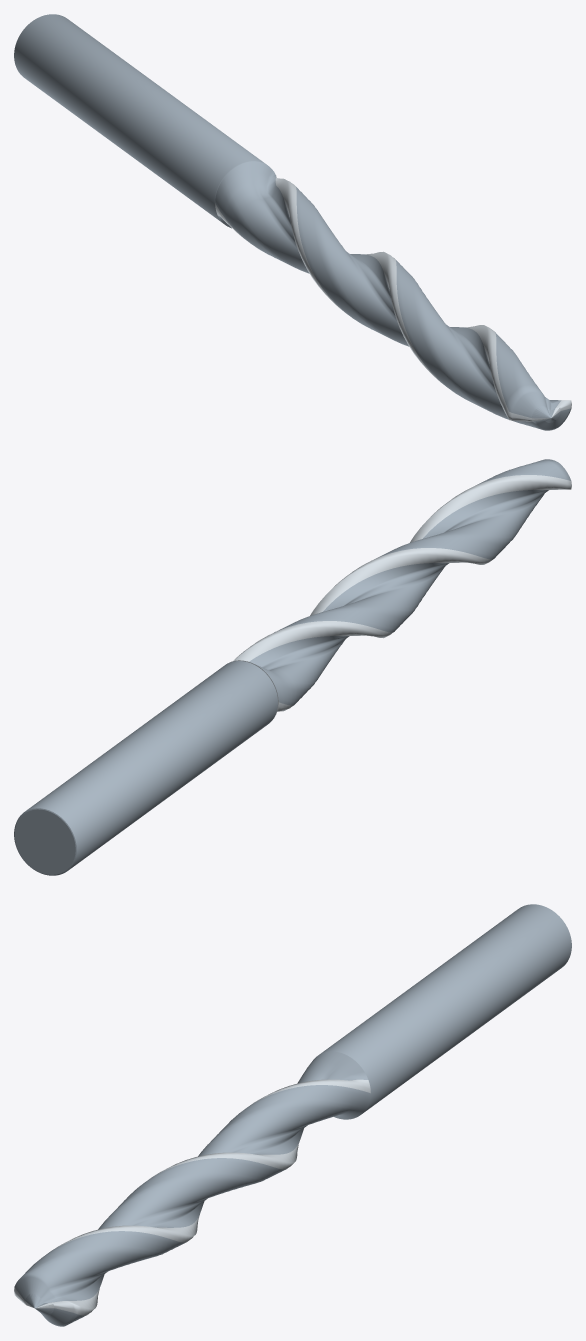
The model's file is twist-drill.glb.
3 views of the same model, one above another, from view 1: azimuth 30°, elevation 25°; view 2: azimuth 150°, elevation 25°; view 3: azimuth 330°, elevation 25° (orthographic).
Parts seen in each view (by area): view 1: TwistDrill_2_Helical_Flutes, TwistDrill_Shank; view 2: TwistDrill_Shank, TwistDrill_2_Helical_Flutes; view 3: TwistDrill_2_Helical_Flutes, TwistDrill_Shank.
Boxes of the visible parts, x1,y1,x2,y2 form: TwistDrill_2_Helical_Flutes: (215, 161, 571, 430); TwistDrill_Shank: (14, 14, 266, 222); TwistDrill_Shank: (14, 661, 277, 875); TwistDrill_2_Helical_Flutes: (227, 459, 571, 720); TwistDrill_2_Helical_Flutes: (14, 1051, 370, 1326); TwistDrill_Shank: (319, 904, 571, 1113).
Bounding box in the file's own units: 0.004 × 0.004 × 0.0552.
